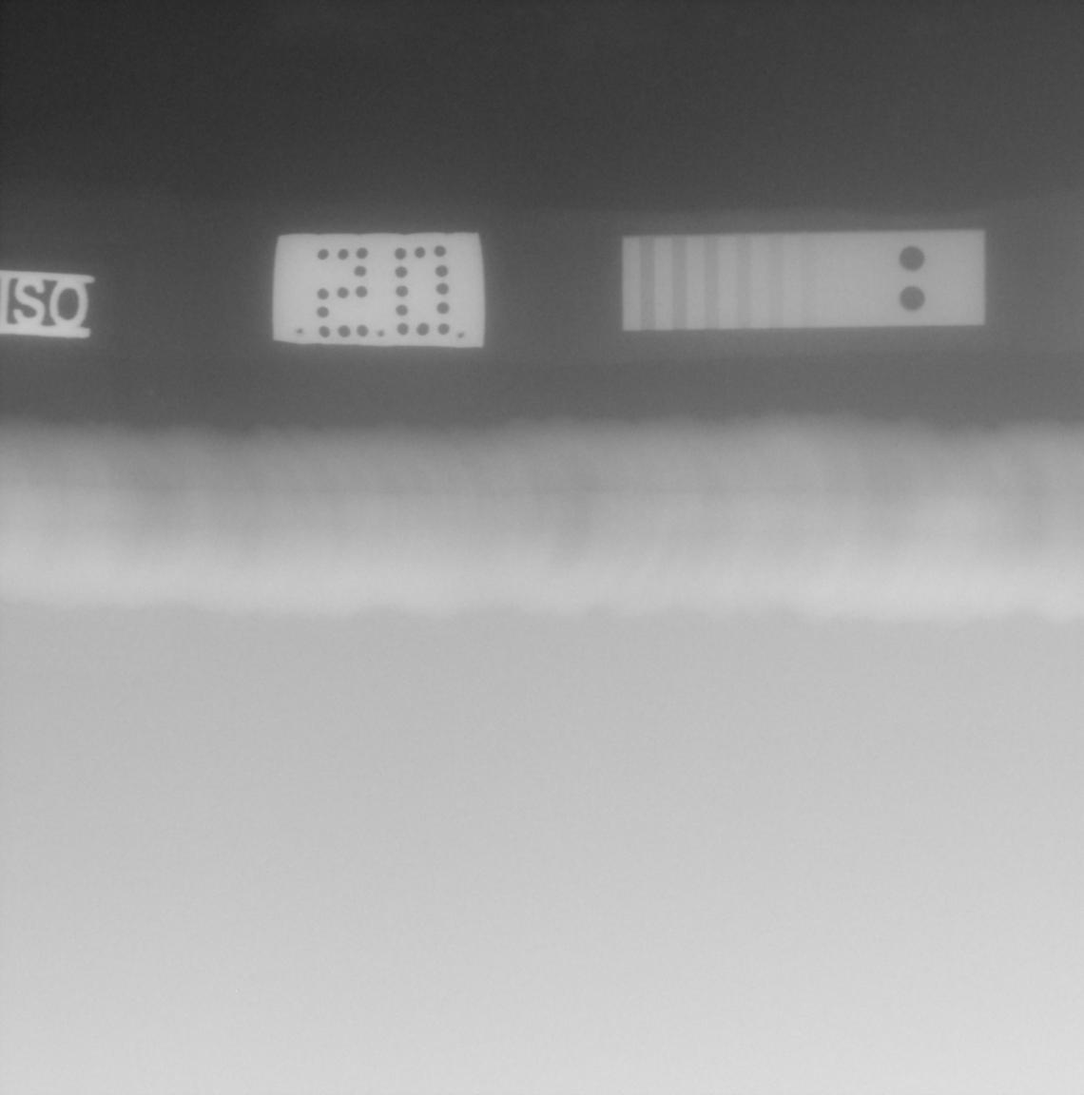Reference Standard 2: (622, 230, 985, 331)
